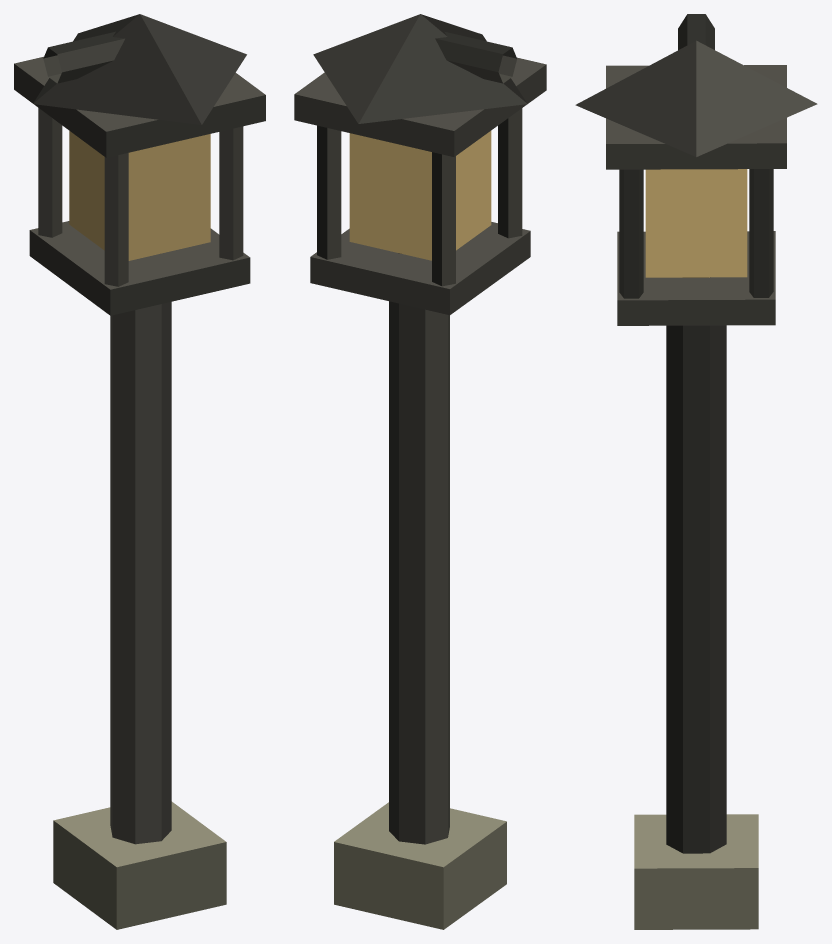
The picture shows the model from 3 angles, left to right: view 1: azimuth 30°, elevation 25°; view 2: azimuth 150°, elevation 25°; view 3: azimuth 270°, elevation 25°; orthographic projection. The views are drawn at different scales.
Parts seen in each view (by area): view 1: 138f0f96dba6a9406dcb89c581a9033e7997186c82766bde1c7eab414110; view 2: 138f0f96dba6a9406dcb89c581a9033e7997186c82766bde1c7eab414110; view 3: 138f0f96dba6a9406dcb89c581a9033e7997186c82766bde1c7eab414110.
Part boxes in pixels (left/top/right/bottom): 138f0f96dba6a9406dcb89c581a9033e7997186c82766bde1c7eab414110: left=14, top=14, right=265, bottom=929; 138f0f96dba6a9406dcb89c581a9033e7997186c82766bde1c7eab414110: left=294, top=14, right=546, bottom=929; 138f0f96dba6a9406dcb89c581a9033e7997186c82766bde1c7eab414110: left=575, top=14, right=817, bottom=929.
Size of the model in its own units: 0.86 by 3.37 by 0.86.
Materials: 2 (1 with a texture image).
